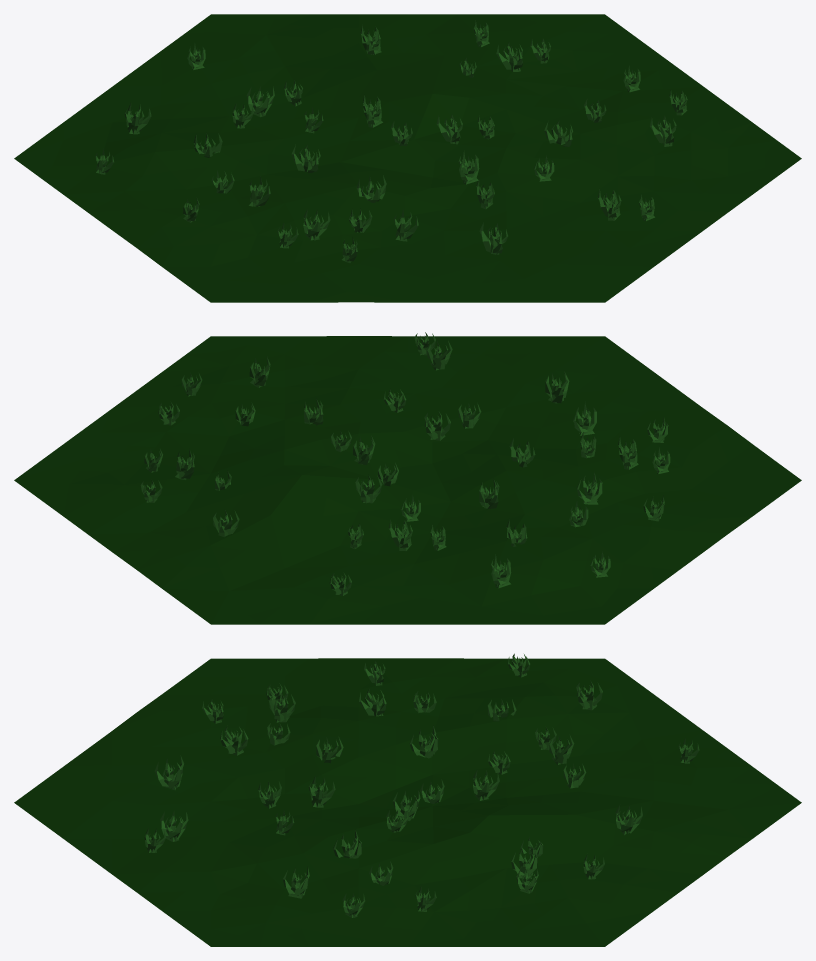
The model's file is grassland.gltf.
3 renders of one model, top to bottom at view 1: azimuth 30°, elevation 25°; view 2: azimuth 150°, elevation 25°; view 3: azimuth 270°, elevation 25°, orthographic.
Parts seen in each view (by area): view 1: Circle; view 2: Circle; view 3: Circle.
Part boxes in pixels (x1,y1,x2,y2): Circle: (14,14,801,302); Circle: (14,336,801,624); Circle: (14,658,801,946).
Size of the model in its own units: 1.73 by 0.0922 by 2.
